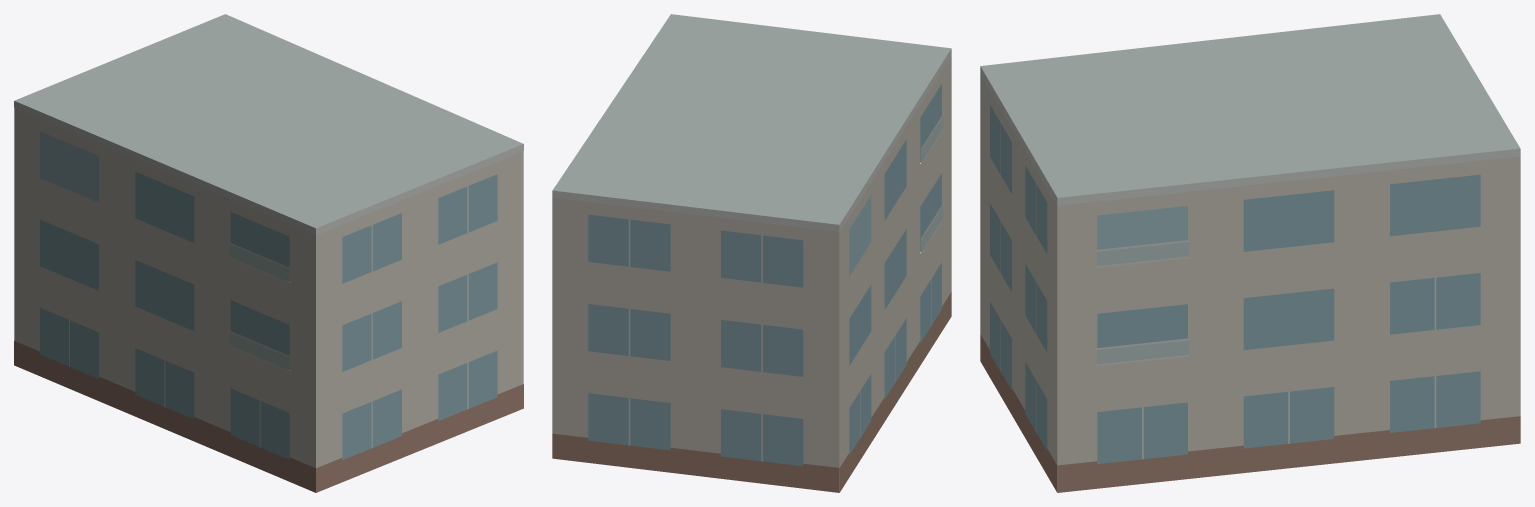
File: survey-upis-32709703.glb
3 views of the same model, side by side, from view 1: azimuth 30°, elevation 25°; view 2: azimuth 150°, elevation 25°; view 3: azimuth 270°, elevation 25° (orthographic). The views are drawn at different scales.
Parts seen in each view (by area): view 1: survey-upis-32709703.tmp; view 2: survey-upis-32709703.tmp; view 3: survey-upis-32709703.tmp.
Boxes of the visible parts, left/top/right/bottom form: survey-upis-32709703.tmp: left=14, top=14, right=523, bottom=492; survey-upis-32709703.tmp: left=552, top=14, right=951, bottom=492; survey-upis-32709703.tmp: left=980, top=14, right=1520, bottom=492.
Size of the model in its own units: 12.24 by 9.15 by 15.2.
